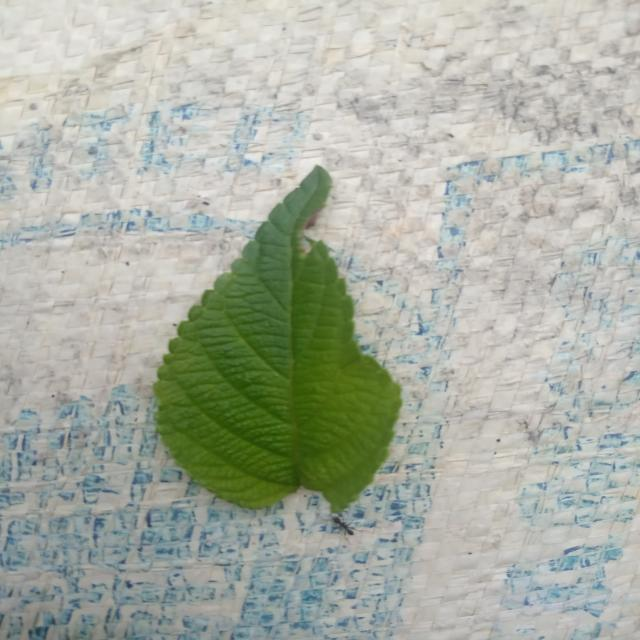Lantana: (153, 166, 402, 511)
